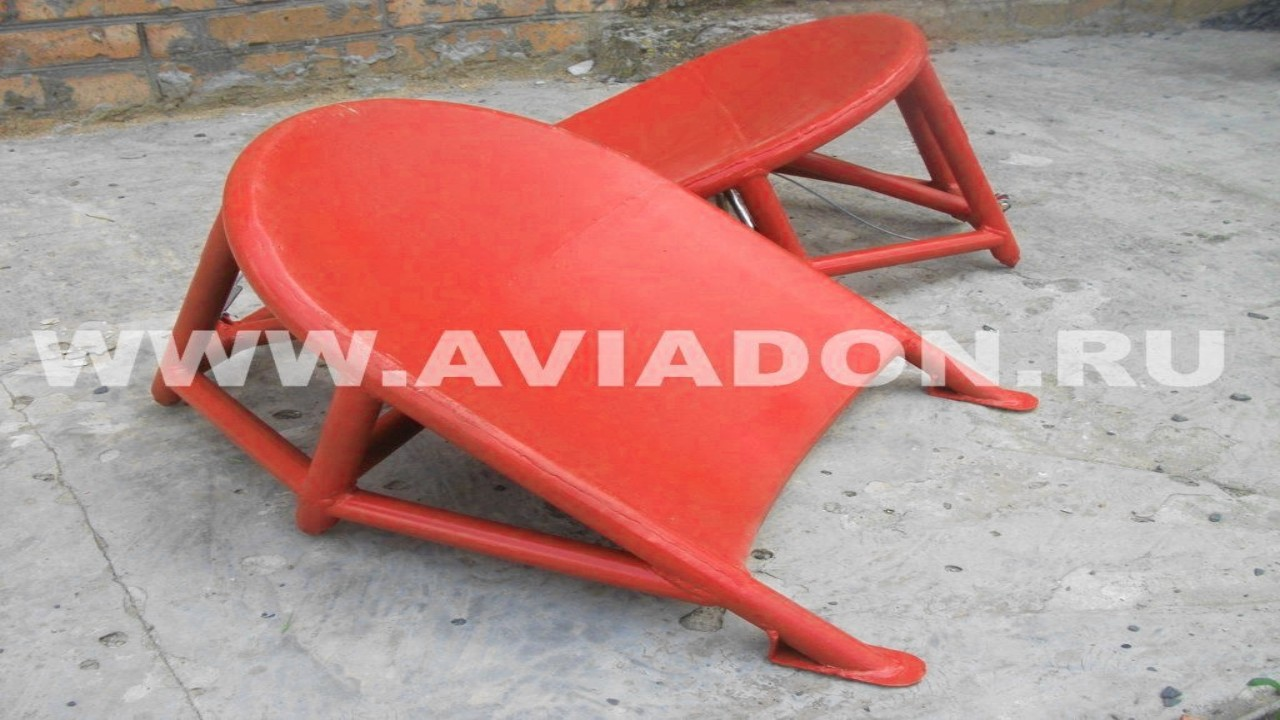chock: (147, 99, 1040, 684), (556, 12, 1032, 266)
